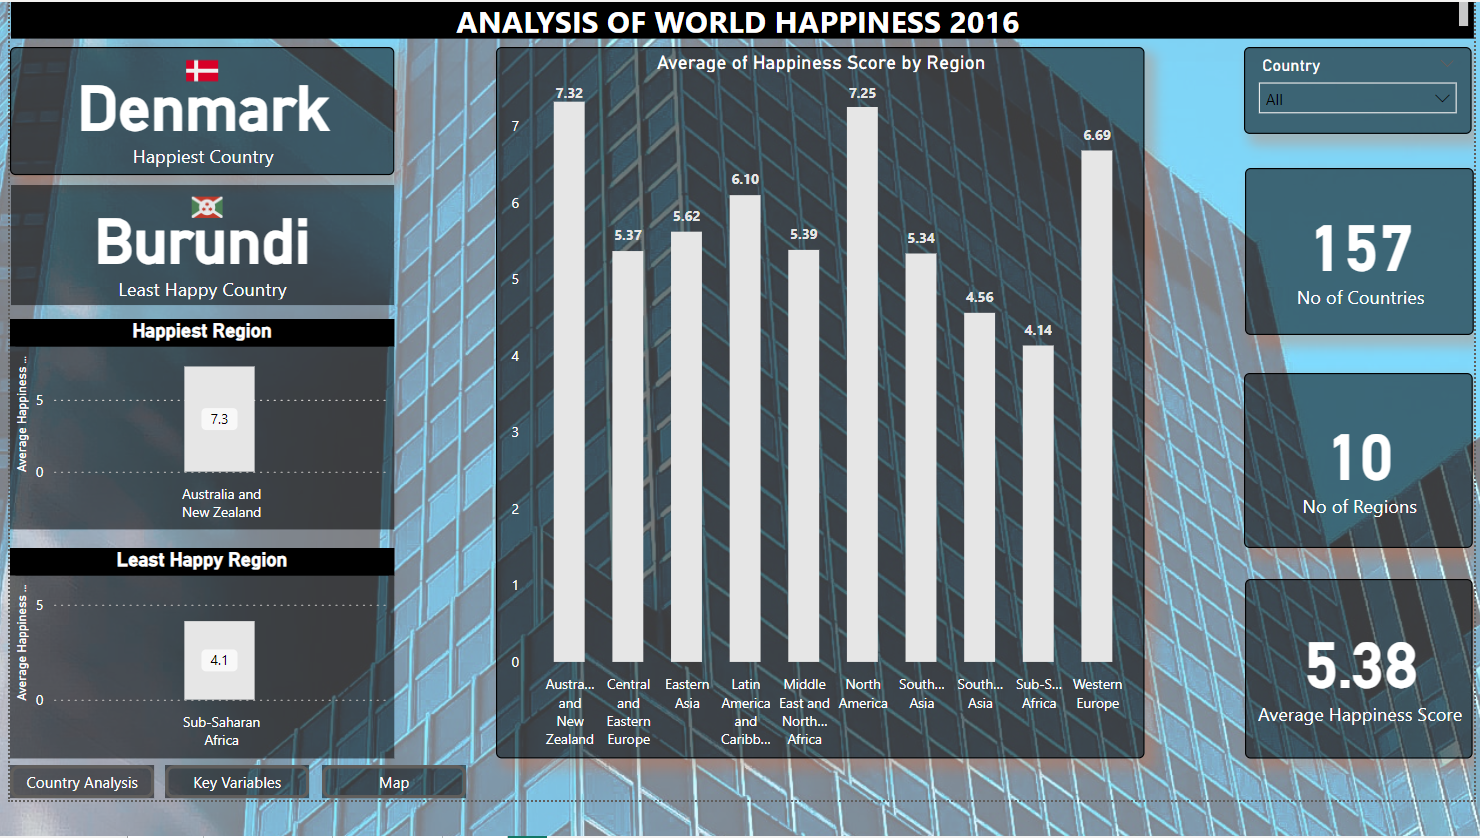

This screenshot's page, from the dashboard's own definition file:
{"tool":"powerbi","page":{"name":"HOME","canvas":[1280,720],"ordinal":0},"visuals":[{"type":"slicer","fields":{"Values":["2016.Country"]},"box":[1078.9,62.1,199.3,76.1],"z":0},{"type":"card","fields":{"Values":["Min(2016.Country)"]},"box":[0,62.2,335.9,112.1],"z":0,"group":"g1"},{"type":"image","box":[145.7,64.2,44.7,38.1],"z":1000,"group":"g1"},{"type":"card","fields":{"Values":["CountNonNull(2016.Country)"]},"box":[1079.8,167.9,200.2,146],"z":1000},{"type":"card","fields":{"Values":["Avg(2016.Happiness Score)"]},"box":[1079.8,527.2,199.3,156.5],"z":2000},{"type":"columnChart","fields":{"Category":["2016.Region","2016.Country"],"Y":["Avg(2016.Happiness Score)"]},"box":[424.9,62.1,566.6,621.6],"z":3000},{"type":"card","fields":{"Values":["Count(2016.Region)"]},"box":[1078.9,347.1,200.2,153],"z":4000},{"type":"lineStackedColumnComboChart","title":"Happiest Region","fields":{"Category":["2016.Region"],"Y":["Avg(2016.Happiness Score)"]},"box":[0,299.9,335.7,184.5],"z":5000},{"type":"lineStackedColumnComboChart","title":"Least Happy Region","fields":{"Category":["2016.Region"],"Y":["Avg(2016.Happiness Score)"]},"box":[0,500.1,335.7,183.6],"z":6000},{"type":"actionButton","box":[0,690.2,126.3,29.3],"z":7000},{"type":"actionButton","box":[135.3,690.2,126.3,29.3],"z":8000},{"type":"actionButton","box":[272.9,690.2,126.3,29.3],"z":9000},{"type":"textbox","box":[0.9,15.7,1279.1,39.3],"z":10000},{"type":"group","id":"g1","title":"Group 1","box":[0,62.2,335.8,111.6],"z":11000},{"type":"card","fields":{"Values":["Min(2016.Country)"]},"box":[1,182.7,334.8,104.7],"z":12000,"group":"g2"},{"type":"image","box":[154.1,182.7,36.5,38.5],"z":13000,"group":"g2"},{"type":"group","id":"g2","title":"Group 2","box":[1,182.7,334.8,104.7],"z":13001}]}

Visuals, with their boxes in screenshot pixels (x1, y1, x2, y2), scaled from the page's 1280x720 canvas onto the 1480x838 screenshot:
slicer - 2016.Country: (1247,72,1478,161)
card - Min(2016.Country): (0,72,388,203)
image: (168,75,220,119)
card - CountNonNull(2016.Country): (1249,195,1479,365)
card - Avg(2016.Happiness Score): (1249,614,1479,796)
columnChart - 2016.Region x 2016.Country: (491,72,1146,796)
card - Count(2016.Region): (1247,404,1479,582)
"Happiest Region" lineStackedColumnComboChart: (0,349,388,564)
"Least Happy Region" lineStackedColumnComboChart: (0,582,388,796)
actionButton: (0,803,146,837)
actionButton: (156,803,302,837)
actionButton: (316,803,462,837)
textbox: (1,18,1479,64)
"Group 1" group: (0,72,388,202)
card - Min(2016.Country): (1,213,388,335)
image: (178,213,220,257)
"Group 2" group: (1,213,388,335)
